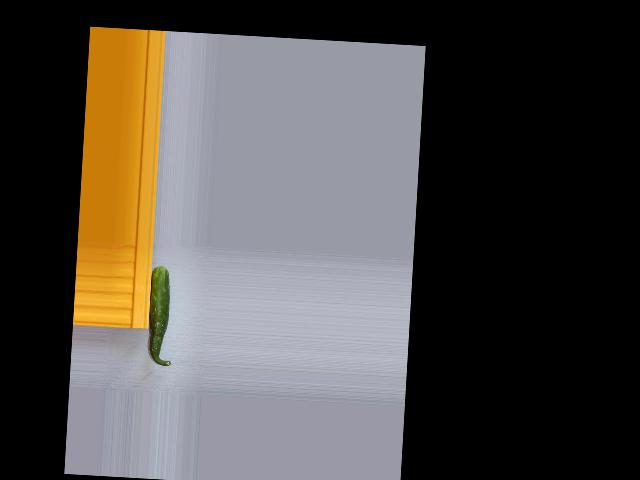cucumber: (145, 266, 176, 367)
